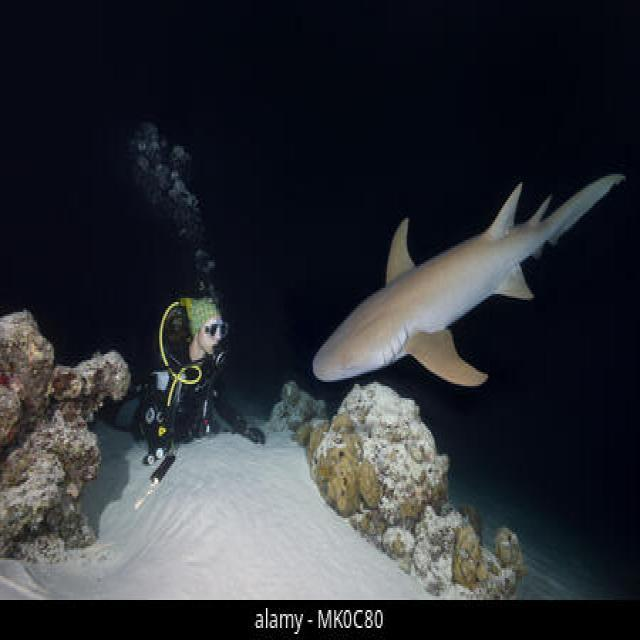Shark: (302, 90, 630, 426)
